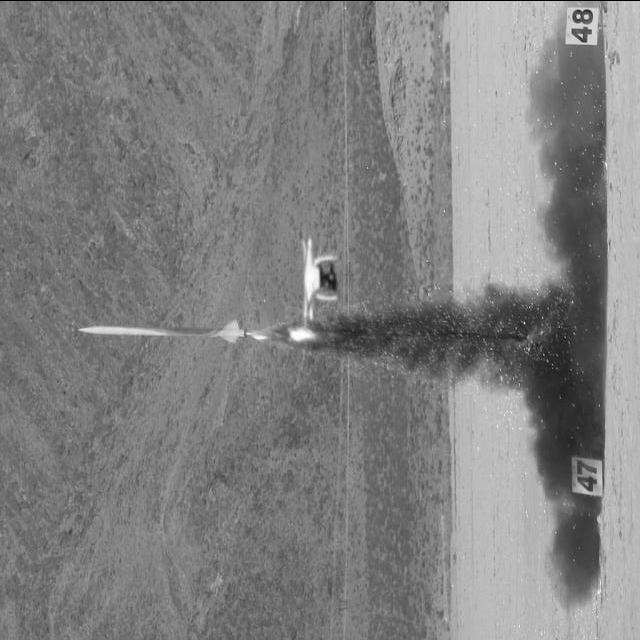missile: (76, 319, 246, 344)
